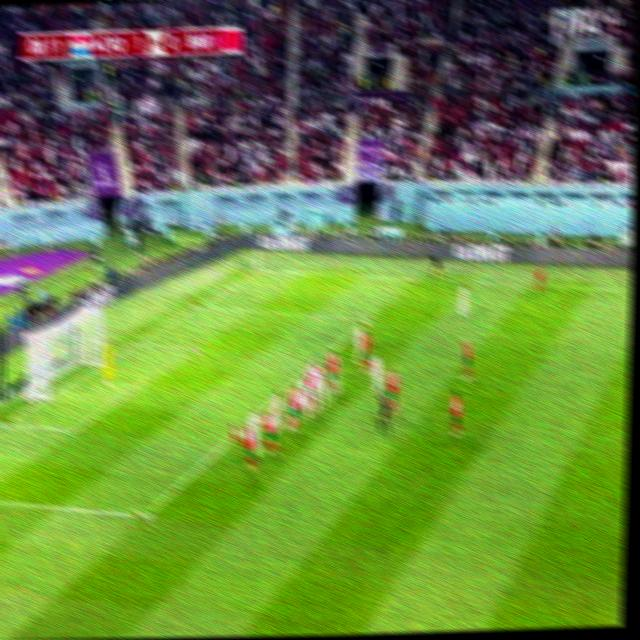bigarea_bottom_inner: (132, 500, 155, 527)
bigarea_top_inner: (358, 310, 373, 326)
bigarea_top_outter: (188, 296, 205, 314)
bottom_arc_area_intersection: (230, 423, 248, 440)
corner: (247, 262, 266, 276)
smallarea_bottom_inner: (63, 415, 84, 440)
smallarea_bottom_outter: (0, 411, 12, 431)
smallarea_top_inner: (184, 336, 202, 356)
smallarea_top_outter: (127, 333, 146, 349)
top_arc_area_intersection: (305, 353, 327, 375)
